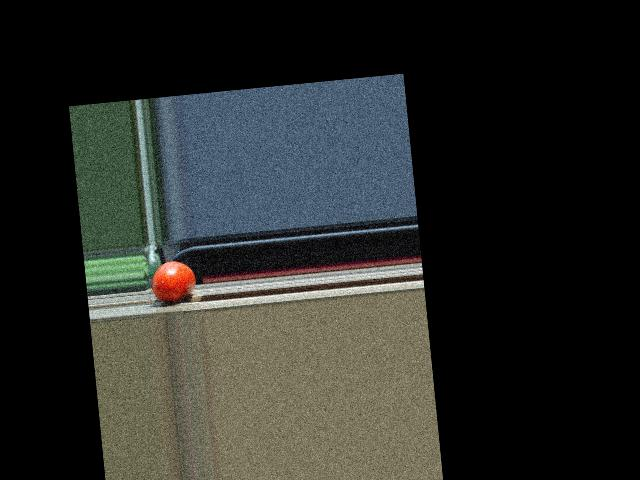tomato: (149, 258, 196, 303)
